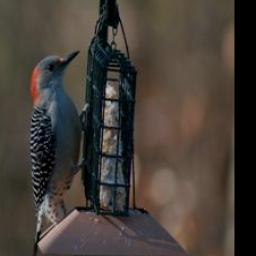Woodpecker: (29, 44, 93, 256)
